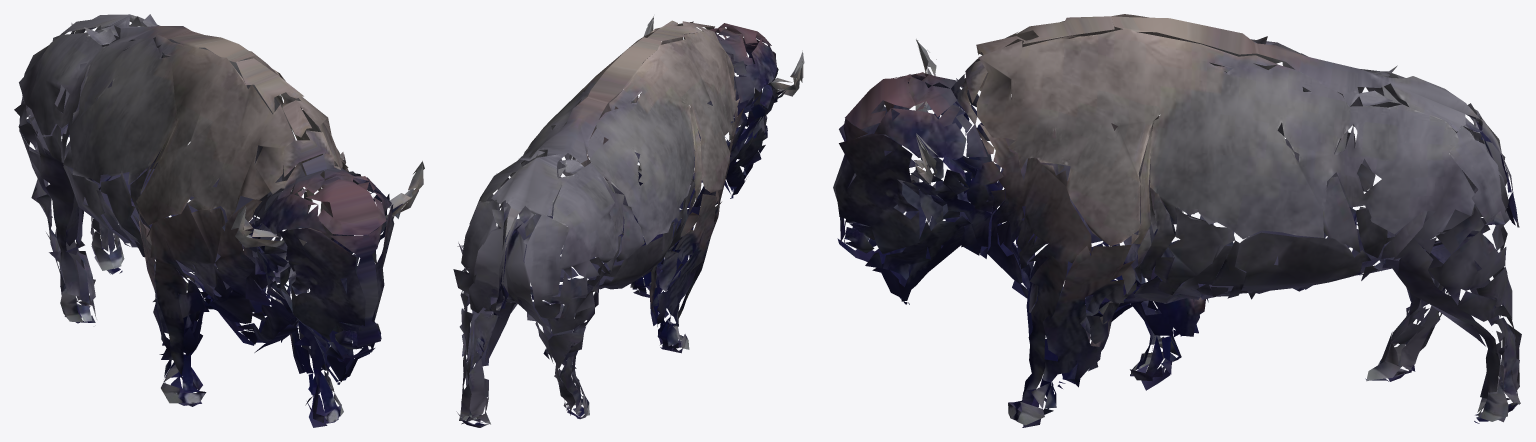
File: bison.glb
The picture shows the model from 3 angles, left to right: view 1: azimuth 30°, elevation 25°; view 2: azimuth 150°, elevation 25°; view 3: azimuth 270°, elevation 25°; orthographic projection. The views are drawn at different scales.
Parts seen in each view (by area): view 1: bison; view 2: bison; view 3: bison.
Boxes of the visible parts, box(x1,y1,x2,y2) form: bison: box(14, 14, 424, 427); bison: box(453, 16, 804, 427); bison: box(833, 14, 1521, 427).
Bounding box in the file's own units: 1.16 × 2.02 × 3.28.
1 material, 1 textured.
